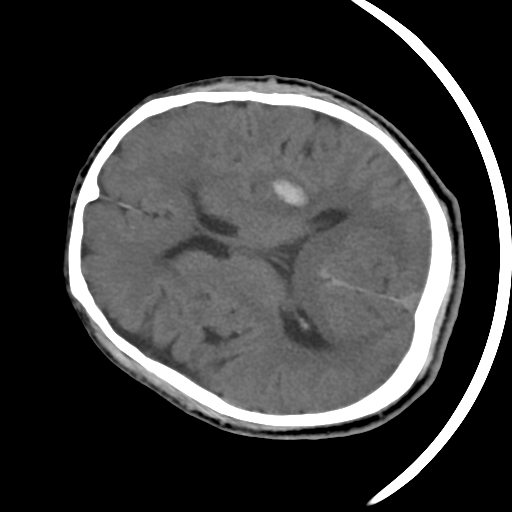a: (238, 158, 324, 225)
